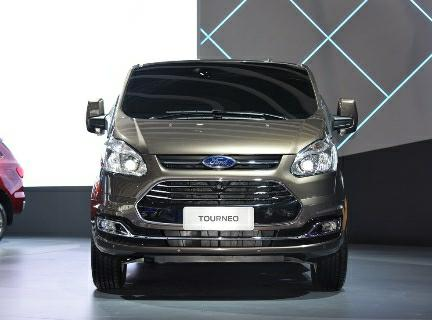car: (62, 51, 366, 299)
